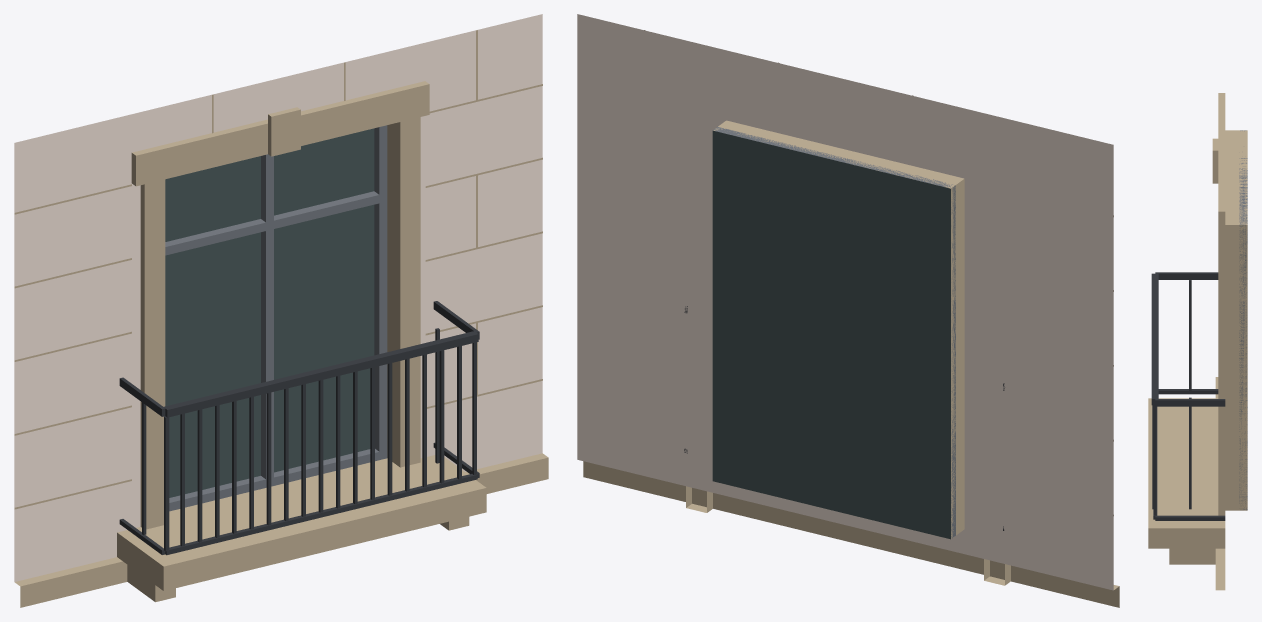
File: mid-w1_close.fbx
The picture shows the model from 3 angles, left to right: view 1: azimuth 30°, elevation 25°; view 2: azimuth 150°, elevation 25°; view 3: azimuth 270°, elevation 25°; orthographic projection. The views are drawn at different scales.
Visible parts, largest first — view 1: a2019/250/mid-w1_close; view 2: a2019/250/mid-w1_close; view 3: a2019/250/mid-w1_close.
Part boxes in pixels (x1,y1,x2,y2): a2019/250/mid-w1_close: [14, 14, 548, 607]; a2019/250/mid-w1_close: [577, 14, 1119, 607]; a2019/250/mid-w1_close: [1148, 93, 1247, 590].
Bounding box in the file's own units: 3.6 × 3 × 0.71.
